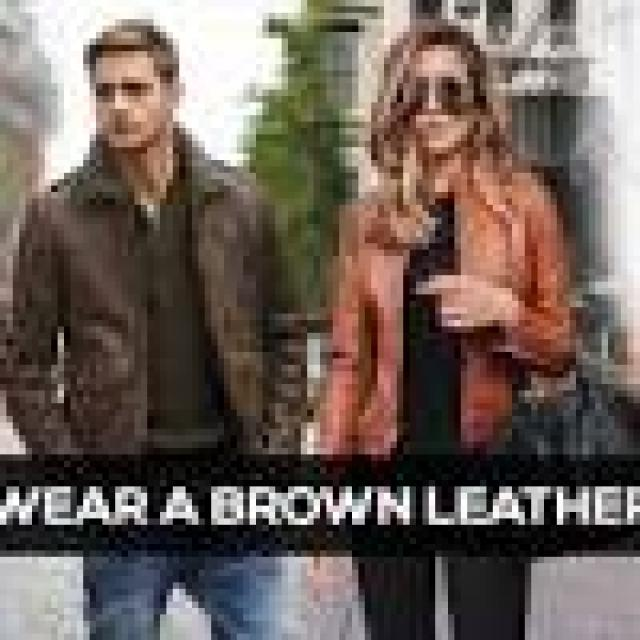Jacket: (0, 148, 307, 454), (316, 157, 575, 455)
